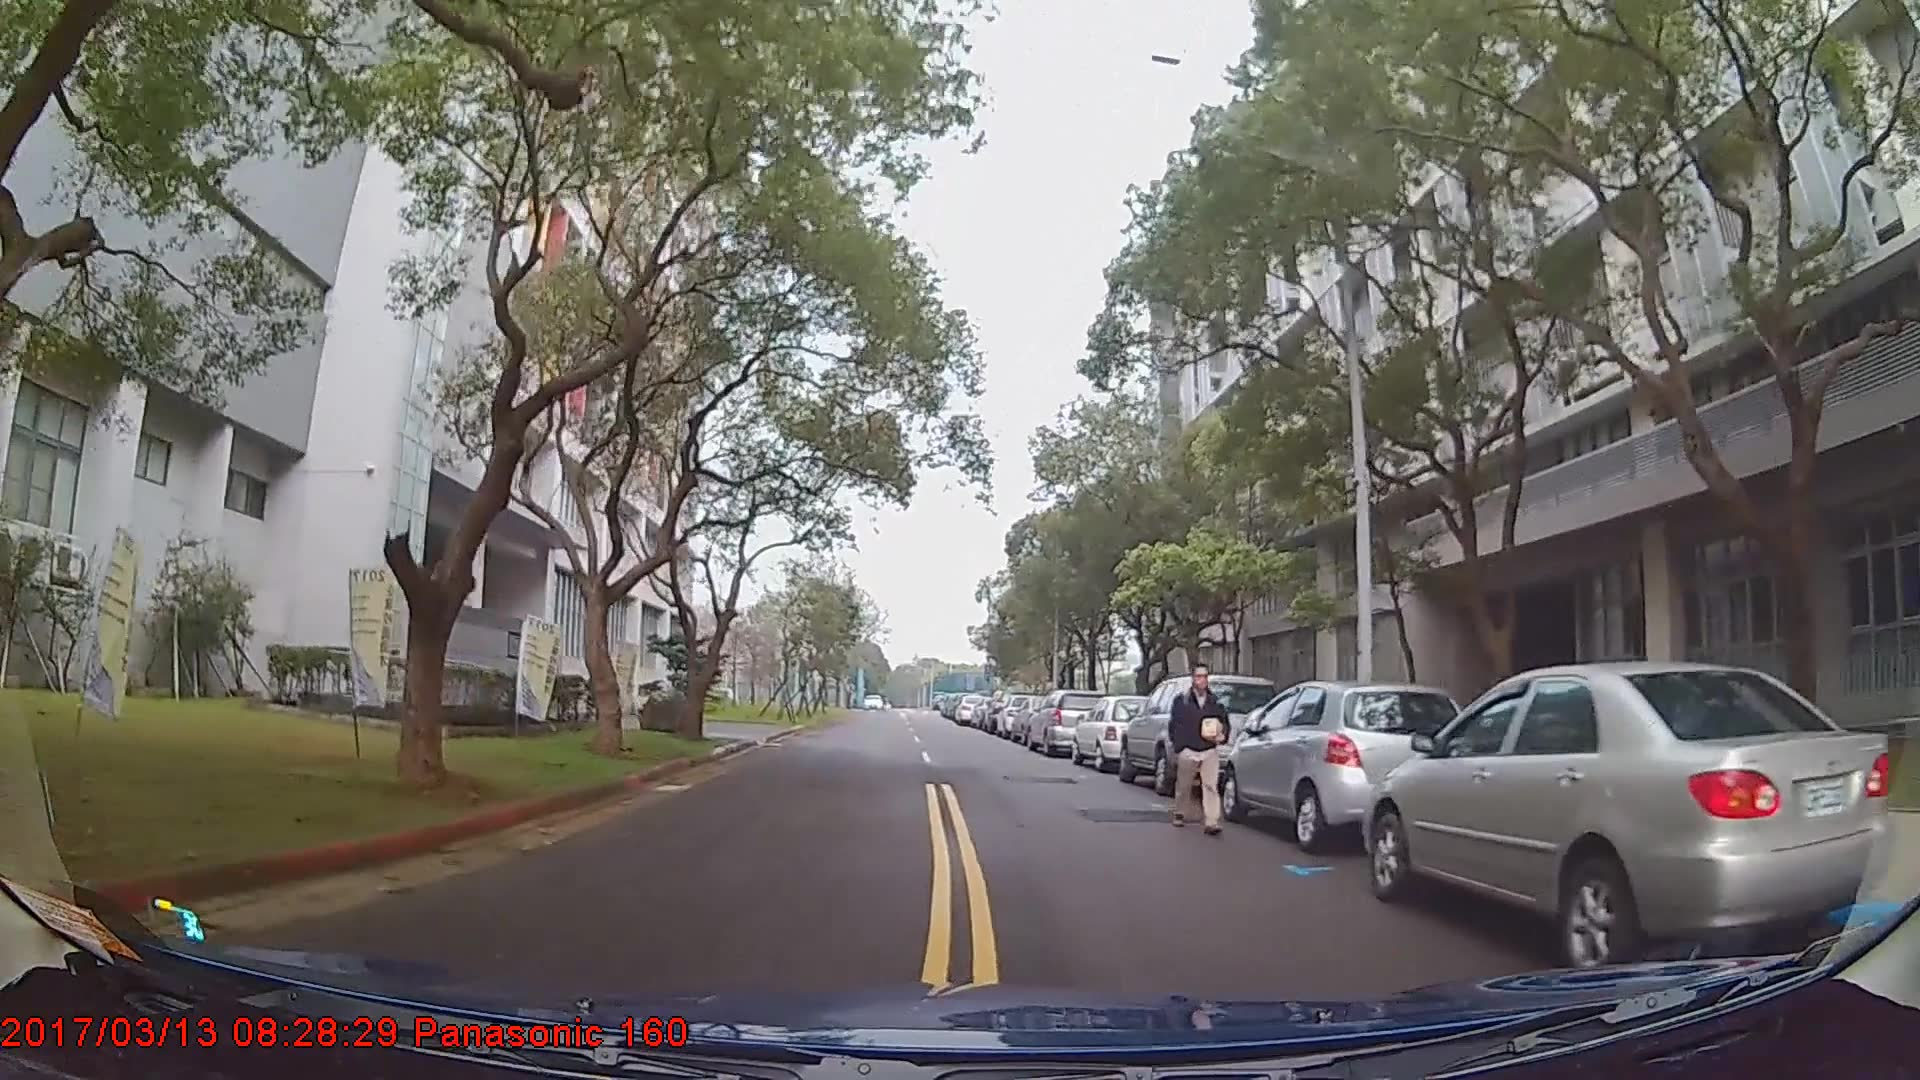pedestrian: (1171, 660, 1237, 833)
vehicle: (1360, 658, 1894, 976), (1218, 674, 1467, 850), (1119, 673, 1285, 794), (1070, 693, 1162, 773), (1026, 686, 1112, 753), (954, 692, 988, 724)
